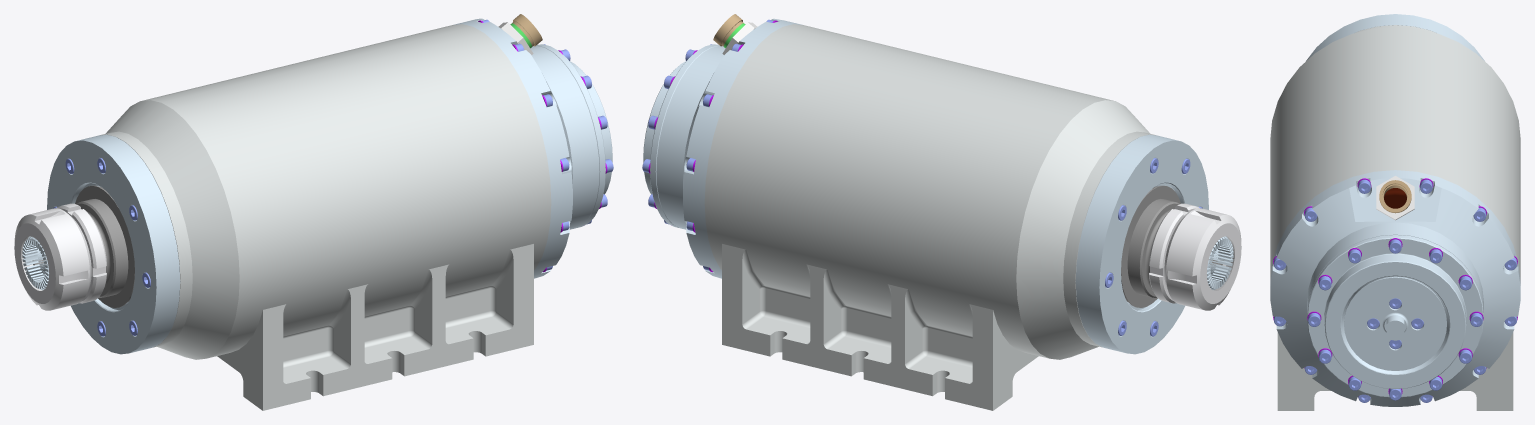
Rendered from wf_elettromandrino_top.fbx.
3 renders of one model, left to right at view 1: azimuth 30°, elevation 25°; view 2: azimuth 150°, elevation 25°; view 3: azimuth 270°, elevation 25°, orthographic. The views are drawn at different scales.
Visible parts, largest first — view 1: WF_CORPO_MANDRINO, WF_FLANGIA_ANTERIORE, WF_FLANGIA_CHIUSURA_CORPO_MANDR, WF_CONTRO_GHIERA, WF_ALBERO_MANDRINO, WF_FLANGIA_CHIUSURA_POSTERIORE, WF_GHIERA_PINZA, WF_PINZA, PRESSACAVO_A; view 2: WF_CORPO_MANDRINO, WF_FLANGIA_ANTERIORE, WF_FLANGIA_CHIUSURA_CORPO_MANDR, WF_CONTRO_GHIERA, WF_ALBERO_MANDRINO, WF_FLANGIA_CHIUSURA_POSTERIORE, WF_GHIERA_PINZA, WF_PINZA, PRESSACAVO_A; view 3: WF_CORPO_MANDRINO, WF_FLANGIA_CHIUSURA_CORPO_MANDR, WF_FLANGIA_CHIUSURA_POSTERIORE, WF_FLANGIA_ALBERO_MANDRINO, WF_FLANGIA_ANTERIORE, PRESSACAVO_B, PRESSACAVO_A, WF_STATORE.
Part boxes in pixels (x1,y1,x2,y2): WF_CORPO_MANDRINO: (100, 24, 551, 410); WF_FLANGIA_ANTERIORE: (47, 134, 180, 354); WF_FLANGIA_CHIUSURA_CORPO_MANDR: (453, 18, 599, 278); WF_CONTRO_GHIERA: (14, 208, 91, 310); WF_ALBERO_MANDRINO: (32, 185, 134, 307); WF_FLANGIA_CHIUSURA_POSTERIORE: (536, 44, 612, 227); WF_GHIERA_PINZA: (56, 203, 106, 303); WF_PINZA: (22, 236, 48, 290); PRESSACAVO_A: (510, 14, 542, 48); WF_CORPO_MANDRINO: (704, 24, 1155, 410); WF_FLANGIA_ANTERIORE: (1075, 134, 1208, 354); WF_FLANGIA_CHIUSURA_CORPO_MANDR: (656, 18, 802, 278); WF_CONTRO_GHIERA: (1164, 208, 1241, 310); WF_ALBERO_MANDRINO: (1121, 185, 1223, 307); WF_FLANGIA_CHIUSURA_POSTERIORE: (643, 44, 719, 227); WF_GHIERA_PINZA: (1149, 203, 1199, 303); WF_PINZA: (1207, 236, 1233, 290); PRESSACAVO_A: (713, 14, 745, 48); WF_CORPO_MANDRINO: (1270, 25, 1520, 410); WF_FLANGIA_CHIUSURA_CORPO_MANDR: (1270, 170, 1520, 406); WF_FLANGIA_CHIUSURA_POSTERIORE: (1307, 235, 1483, 397); WF_FLANGIA_ALBERO_MANDRINO: (1344, 277, 1446, 370); WF_FLANGIA_ANTERIORE: (1306, 14, 1484, 60); PRESSACAVO_B: (1376, 176, 1414, 220); PRESSACAVO_A: (1379, 180, 1411, 213); WF_STATORE: (1384, 188, 1406, 208).
Bounding box in the file's own units: 40.73 × 19.09 × 17.
